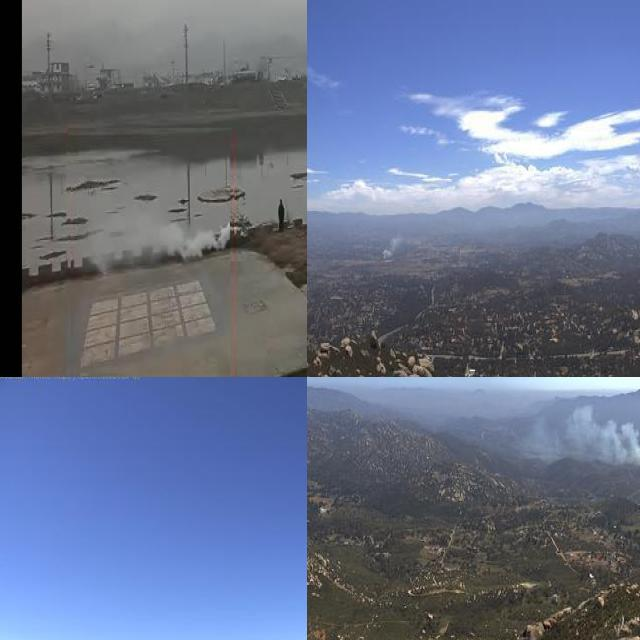smoke: (521, 398, 640, 468), (88, 214, 230, 270), (379, 231, 413, 255)
